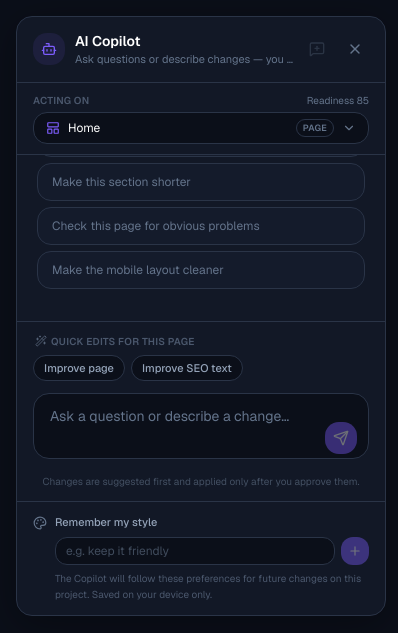
Test case: scope indicator › exposes scope options in a listbox
The image size is (398, 633).
(page scrolled)
Click the button with test id "copilot-scope-badge": (84, 128) [33, 112, 369, 144]
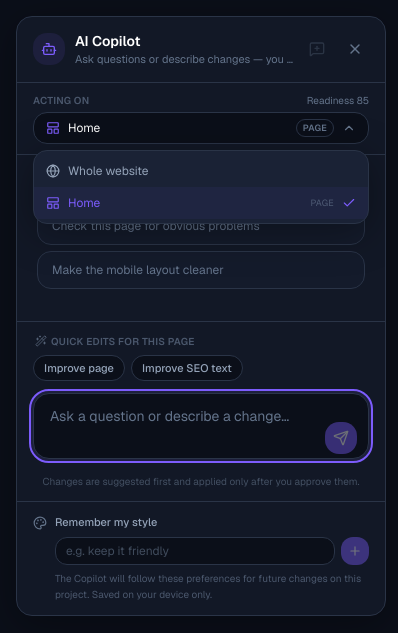
Check: the list with test id "copilot-scope-options" is shown, box [33, 150, 369, 224]
Check: the option with test id "copilot-scope-option-project" is shown, box [34, 154, 368, 186]
Check: the option with test id "copilot-scope-option-page" is shown, box [34, 186, 368, 218]
